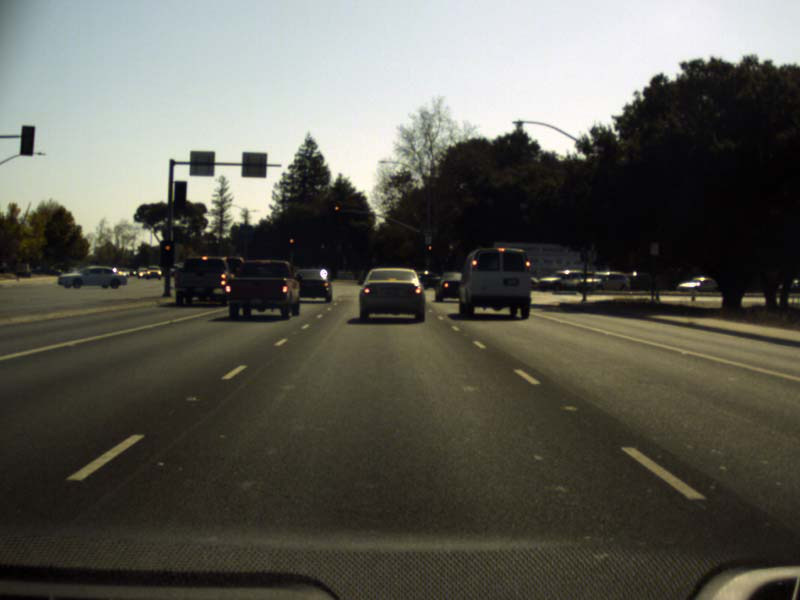Red: (426, 244, 433, 258), (333, 204, 339, 218), (288, 237, 294, 250)
Yellow: (159, 239, 173, 265)
